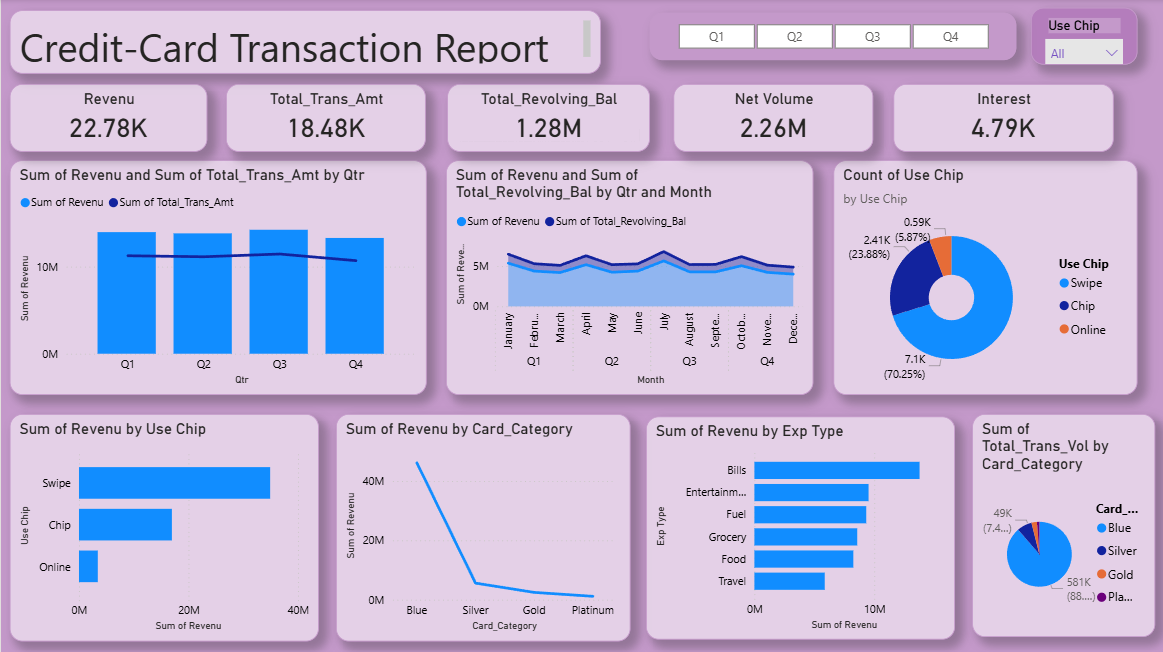

The page's visual inventory and layout, read from the dashboard file:
{"tool":"powerbi","page":{"name":"Page 2","canvas":[1280,720],"ordinal":0},"visuals":[{"type":"textbox","box":[10,12.8,648.6,69.8],"z":0},{"type":"lineStackedColumnComboChart","fields":{"Category":["credit_card.Qtr"],"Y":["Sum(credit_card.Revenu)"],"Y2":["Sum(credit_card.Total_Trans_Amt)"]},"box":[10,176.7,457.6,258],"z":1000},{"type":"barChart","fields":{"Y":["Sum(credit_card.Revenu)"],"Category":["credit_card.Use Chip"]},"box":[10,456.1,339.2,249.4],"z":2000},{"type":"lineChart","fields":{"Category":["credit_card.Card_Category"],"Y":["Sum(credit_card.Revenu)"]},"box":[367.8,456.1,323.6,249.4],"z":3000},{"type":"barChart","fields":{"Y":["Sum(credit_card.Revenu)"],"Category":["credit_card.Exp Type"]},"box":[708.4,459,339.2,245.2],"z":4000},{"type":"donutChart","fields":{"Category":["credit_card.Use Chip"],"Y":["CountNonNull(credit_card.Use Chip)"]},"box":[913.7,176.7,333.5,258],"z":5000},{"type":"stackedAreaChart","fields":{"Category":["credit_card.Qtr","credit_card.Week_Start_Date.Variation.Date Hierarchy.Month"],"Y":["Sum(credit_card.Revenu)","Sum(credit_card.Total_Revolving_Bal)"]},"box":[488.9,176.7,403.4,258],"z":6000},{"type":"pieChart","fields":{"Category":["credit_card.Card_Category"],"Y":["Sum(credit_card.Total_Trans_Vol)"]},"box":[1066.2,456.1,201,245.2],"z":7000},{"type":"slicer","fields":{"Values":["credit_card.Qtr"]},"box":[712.2,15.1,402.1,52.1],"z":8000},{"type":"slicer","fields":{"Values":["credit_card.Use Chip"]},"box":[1130.3,10,116.9,62.7],"z":9000},{"type":"kpi","title":"Revenu","fields":{"Indicator":["Sum(credit_card.Revenu)"],"TrendLine":["credit_card.Revenu"]},"box":[10,92.7,216.7,74.1],"z":10000},{"type":"kpi","title":"Total_Trans_Amt","fields":{"Indicator":["Sum(credit_card.Total_Trans_Amt)"],"TrendLine":["credit_card.Total_Trans_Amt"]},"box":[247,93.3,219.6,74.1],"z":10001},{"type":"kpi","title":"Total_Revolving_Bal","fields":{"Indicator":["Sum(credit_card.Total_Revolving_Bal)"],"TrendLine":["credit_card.Total_Revolving_Bal"]},"box":[489.9,93.3,222.3,74.1],"z":10002},{"type":"kpi","title":"Net Volume","fields":{"Indicator":["Sum(credit_card.VolumePerAmount)"],"TrendLine":["credit_card.VolumePerAmount"]},"box":[738.3,93.3,219.6,74.1],"z":10003},{"type":"kpi","title":" Interest","fields":{"Indicator":["Sum(credit_card.Interest_Earned)"],"TrendLine":["credit_card.Interest_Earned"]},"box":[979.8,93.3,241.5,74.1],"z":10004}]}

Visuals, with their boxes in screenshot pixels (x1, y1, x2, y2), scaled from the page's 1280x720 canvas onto the 1163x652 screenshot:
textbox: 9 12 598 75
lineStackedColumnComboChart - credit_card.Qtr x Sum(credit_card.Revenu): 9 160 425 394
barChart - Sum(credit_card.Revenu) x credit_card.Use Chip: 9 413 317 639
lineChart - credit_card.Card_Category x Sum(credit_card.Revenu): 334 413 628 639
barChart - Sum(credit_card.Revenu) x credit_card.Exp Type: 644 416 952 638
donutChart - credit_card.Use Chip x CountNonNull(credit_card.Use Chip): 830 160 1133 394
stackedAreaChart - credit_card.Qtr x credit_card.Week_Start_Date.Variation.Date Hierarchy.Month: 444 160 811 394
pieChart - credit_card.Card_Category x Sum(credit_card.Total_Trans_Vol): 969 413 1151 635
slicer - credit_card.Qtr: 647 14 1012 61
slicer - credit_card.Use Chip: 1027 9 1133 66
"Revenu" kpi: 9 84 206 151
"Total_Trans_Amt" kpi: 224 84 424 152
"Total_Revolving_Bal" kpi: 445 84 647 152
"Net Volume" kpi: 671 84 870 152
" Interest" kpi: 890 84 1110 152
